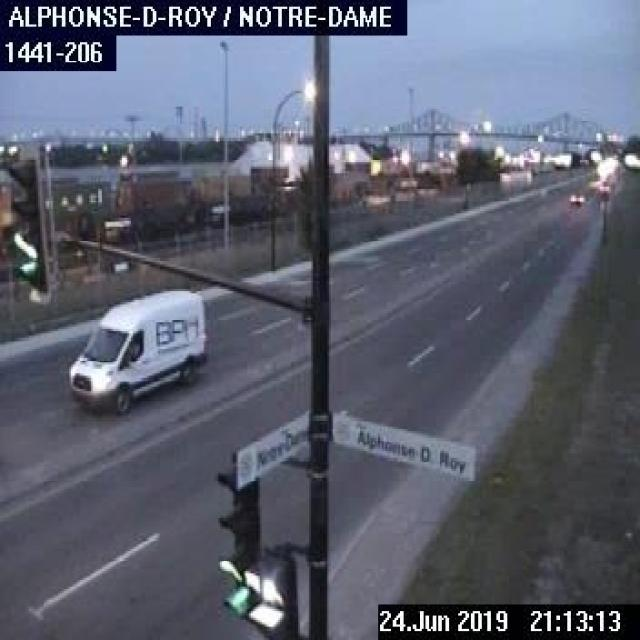vehicle: (66, 282, 206, 413), (568, 190, 584, 206)
